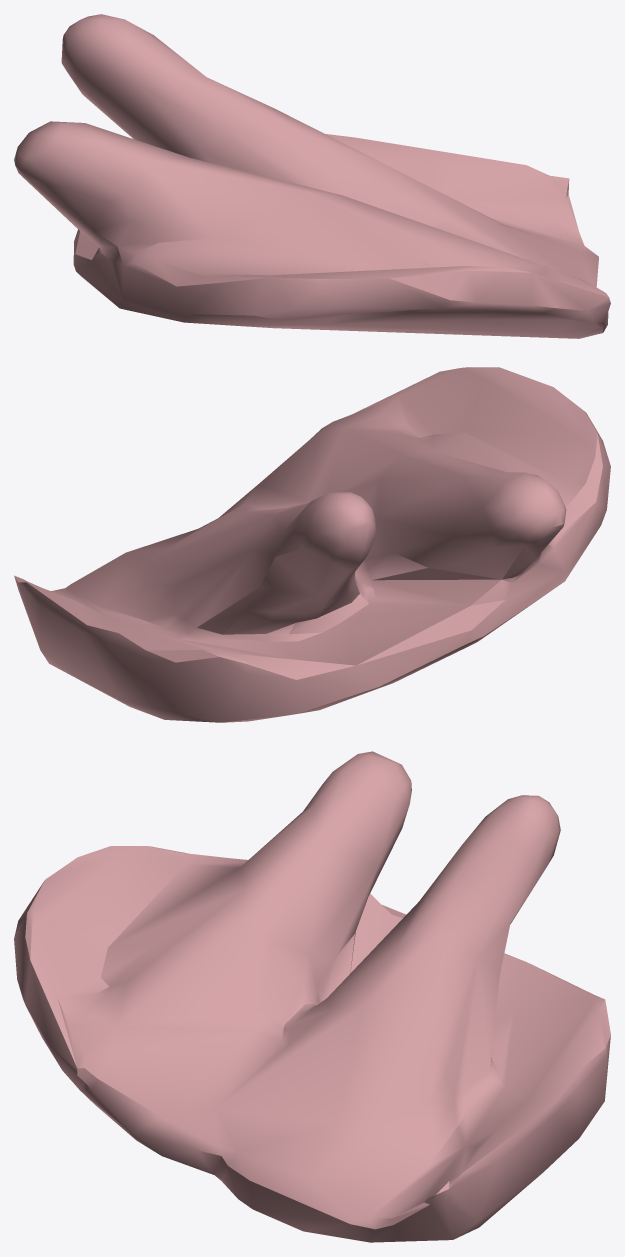
Rendered from fma7261_fj2430.glb.
3 renders of one model, top to bottom at view 1: azimuth 30°, elevation 25°; view 2: azimuth 150°, elevation 25°; view 3: azimuth 270°, elevation 25°, orthographic. The views are drawn at different scales.
Parts seen in each view (by area): view 1: FMA7261_FJ2430; view 2: FMA7261_FJ2430; view 3: FMA7261_FJ2430.
Boxes of the visible parts, x1,y1,x2,y2 form: FMA7261_FJ2430: (14, 14, 610, 338); FMA7261_FJ2430: (14, 367, 610, 722); FMA7261_FJ2430: (14, 751, 610, 1242).
Bounding box in the file's own units: 0.0296 × 0.0143 × 0.0285.
